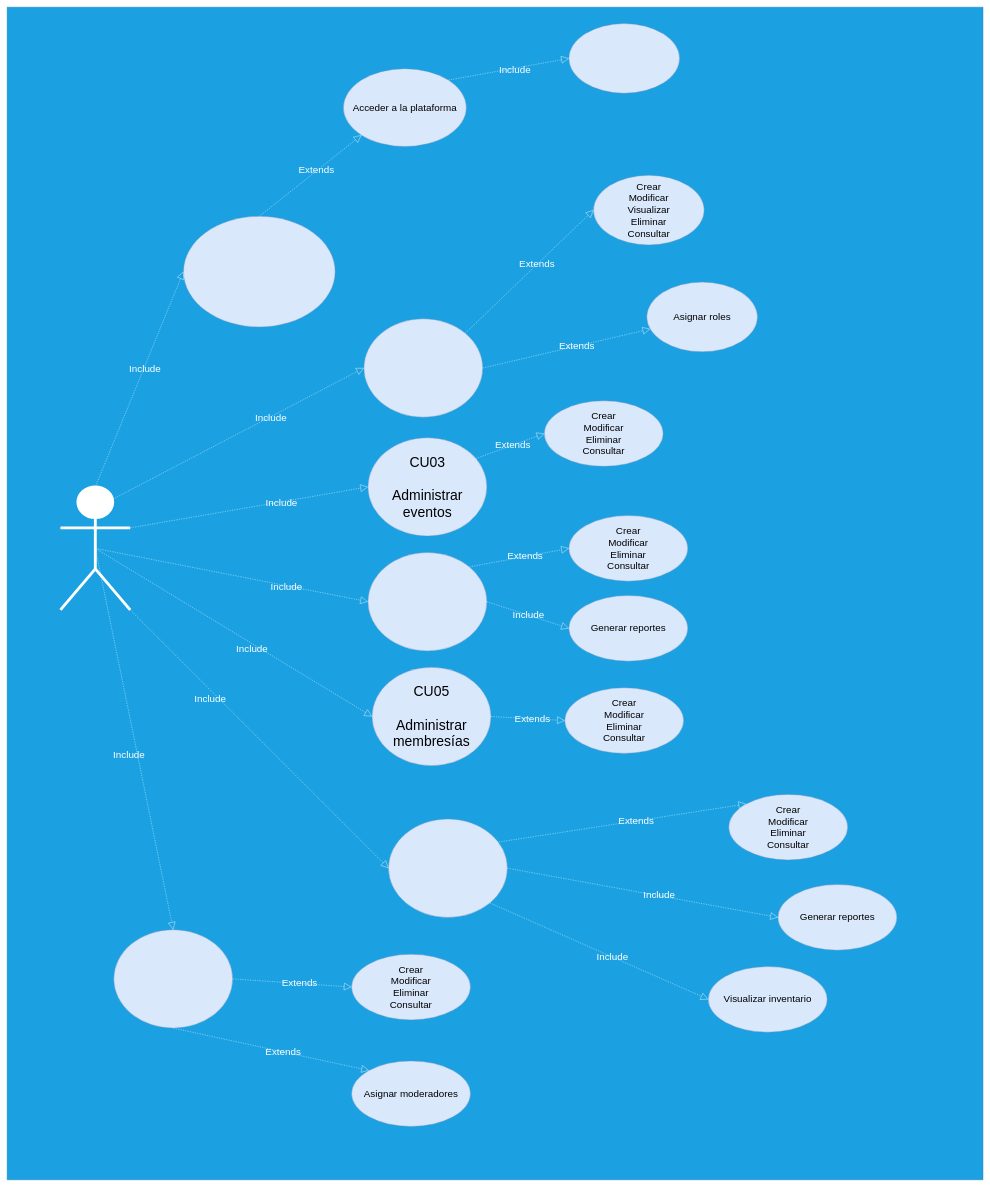
The diagram is 990 pixels wide and 1187 high, and some of its shapes have lost their labels. The centre of each missing label's shape, as x and y in pixels:
Administrador: (95,548)
Cerrar sesión: (624,58)
CU01 Iniciar sesión: (259,271)
CU02 Administrar cuentas: (423,367)
CU04 Administrar asistencia: (427,601)
CU06 Administrar contribuciones: (447,868)
CU07 Administrar foros: (173,978)
